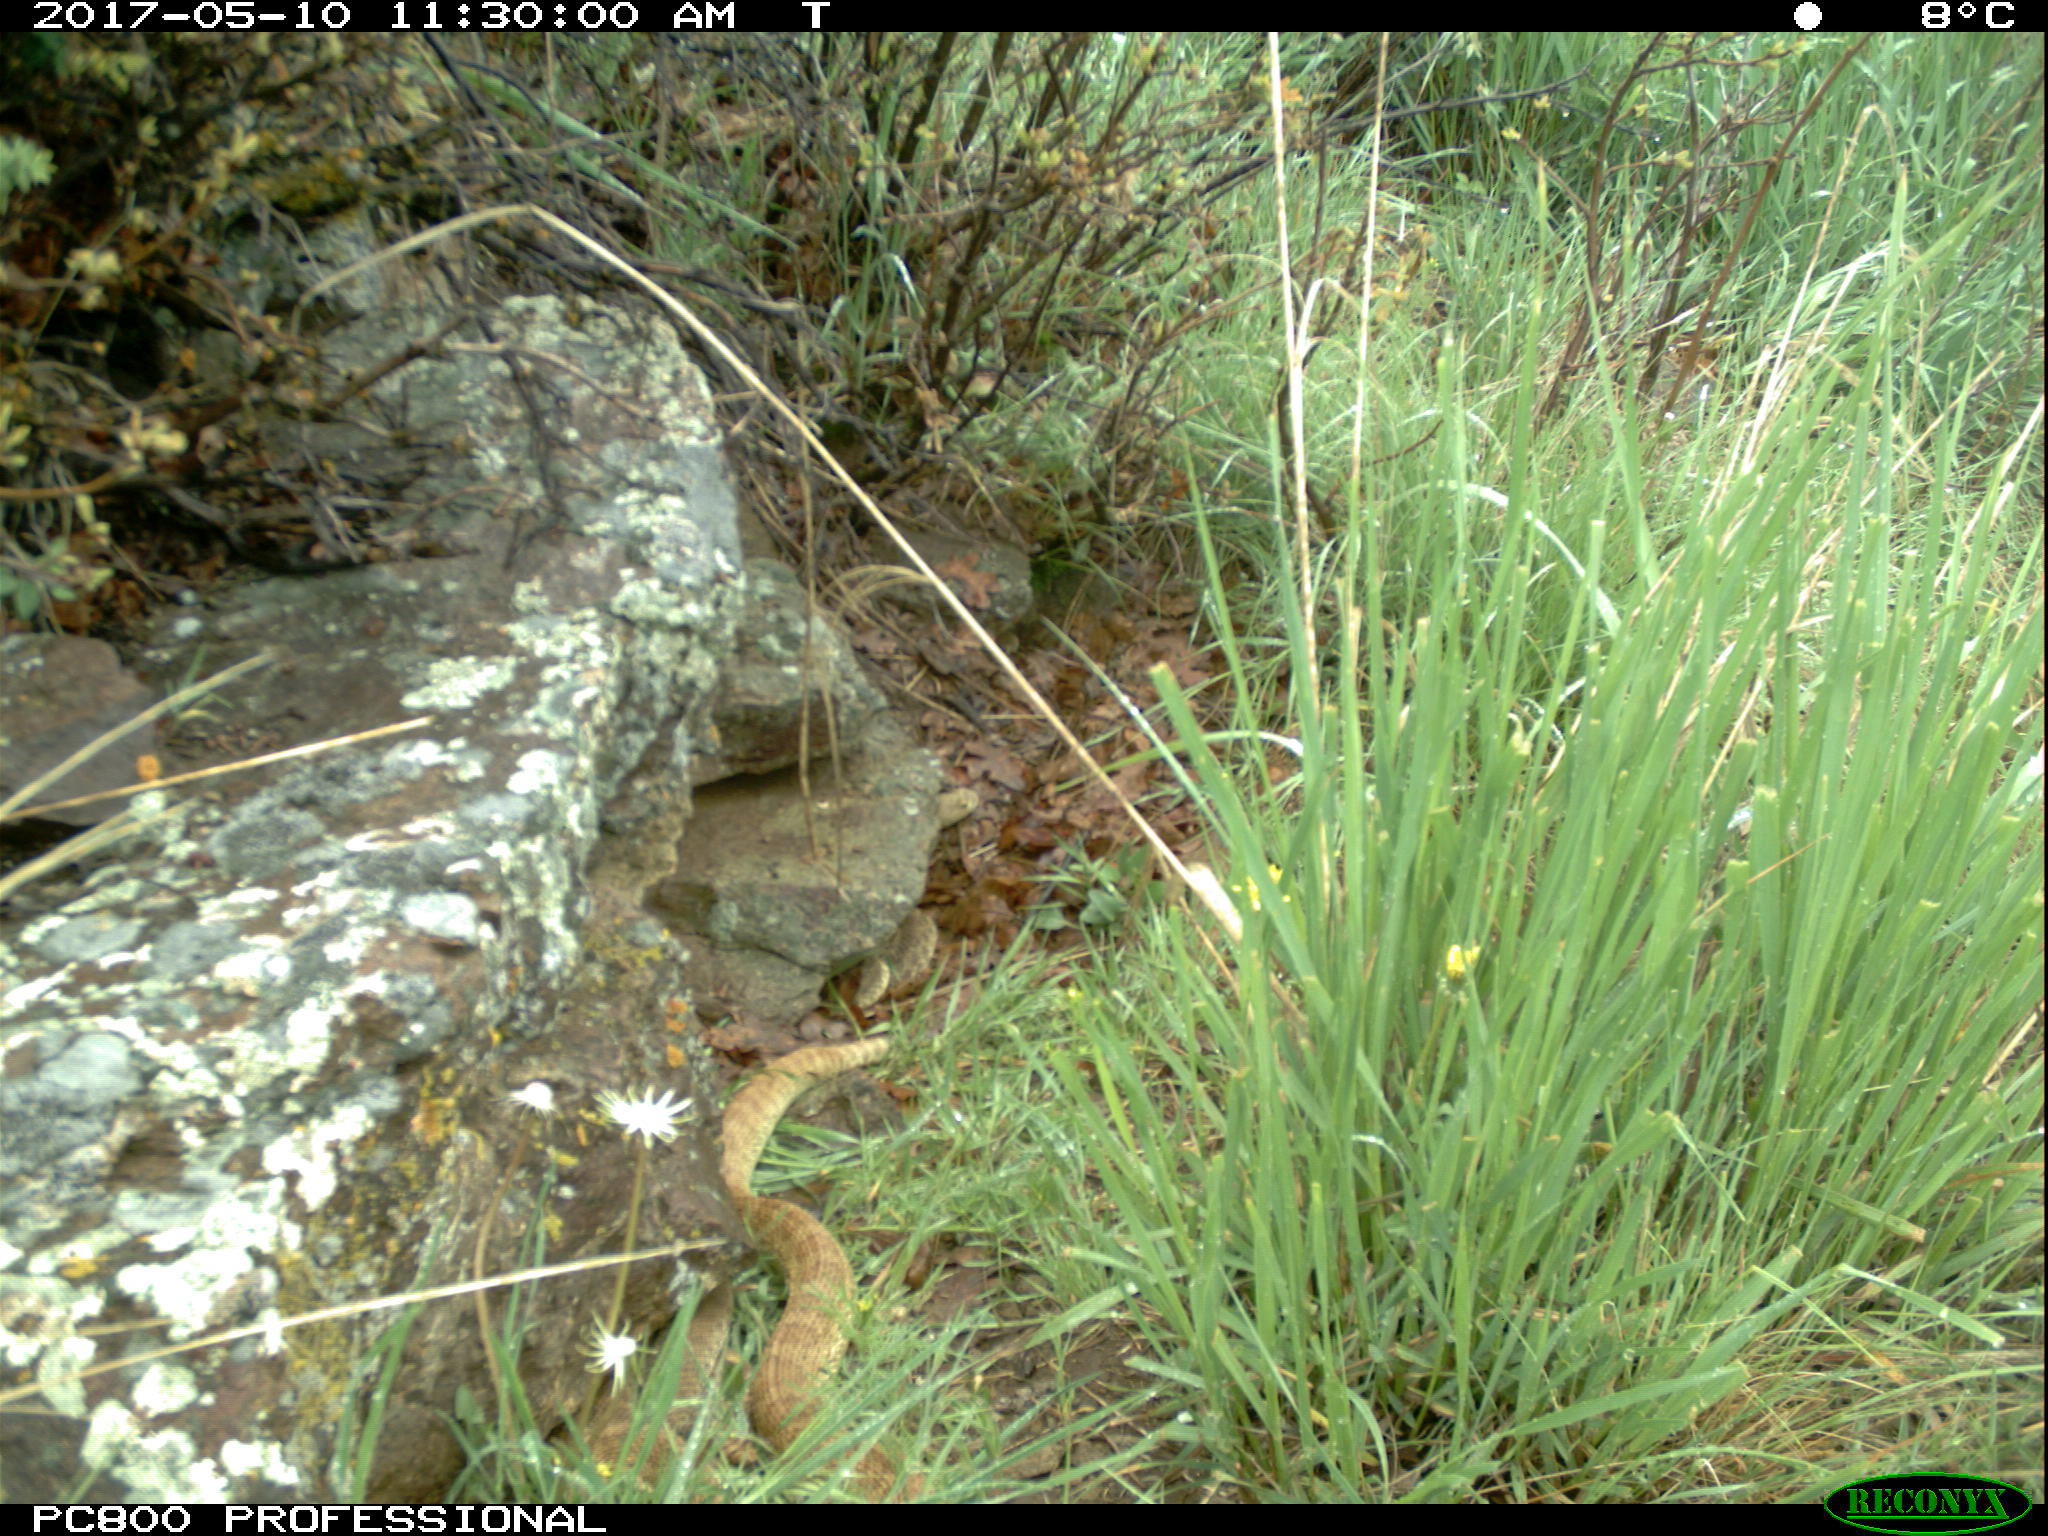snake: (719, 1031, 932, 1501), (595, 1296, 727, 1489), (845, 904, 935, 1008), (934, 789, 977, 829)
